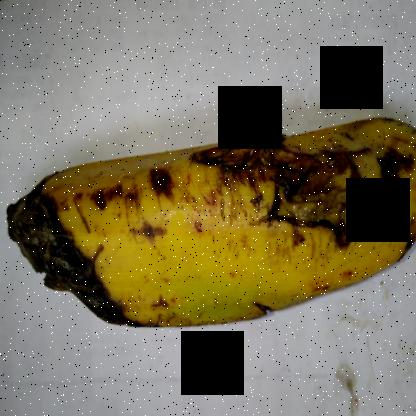rotten: (222, 112, 399, 259), (0, 175, 131, 357)
